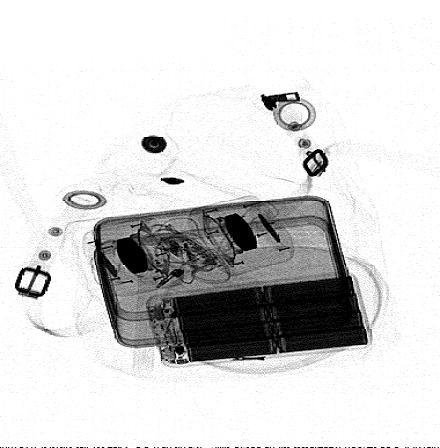Powerbank: (144, 271, 373, 369)
